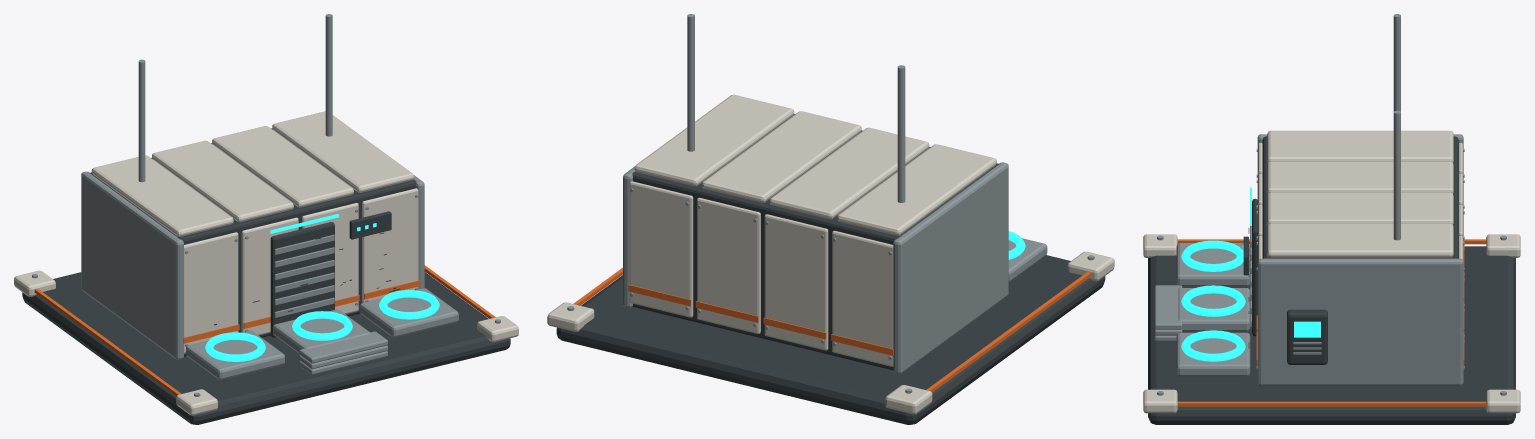
Rendered from SM_ExplorerDroneControlCenter_Body.fbx.
3 views of the same model, side by side, from view 1: azimuth 30°, elevation 25°; view 2: azimuth 150°, elevation 25°; view 3: azimuth 270°, elevation 25° (orthographic). The views are drawn at different scales.
Visible parts, largest first — view 1: SM_ExplorerDroneControlCenter_Body; view 2: SM_ExplorerDroneControlCenter_Body; view 3: SM_ExplorerDroneControlCenter_Body.
Part boxes in pixels (x1,y1,x2,y2): SM_ExplorerDroneControlCenter_Body: [14, 14, 518, 424]; SM_ExplorerDroneControlCenter_Body: [547, 14, 1114, 424]; SM_ExplorerDroneControlCenter_Body: [1143, 14, 1520, 424].
Bounding box in the file's own units: 492 × 462 × 380.
